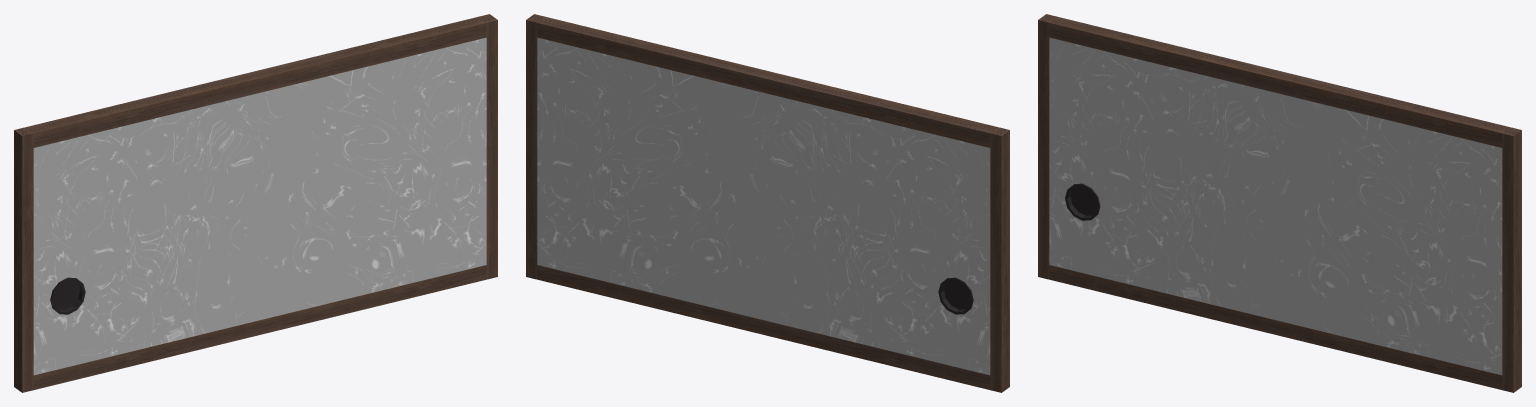
File: hikido10a.fbx
3 views of the same model, side by side, from view 1: azimuth 30°, elevation 25°; view 2: azimuth 150°, elevation 25°; view 3: azimuth 330°, elevation 25° (orthographic).
Parts seen in each view (by area): view 1: hikido10a; view 2: hikido10a; view 3: hikido10a.
Part boxes in pixels (box(x1,y1,x2,y2)): hikido10a: box(14, 14, 497, 392); hikido10a: box(526, 14, 1009, 392); hikido10a: box(1038, 14, 1521, 392).
Size of the model in its own units: 110 by 56.68 by 4.01.
